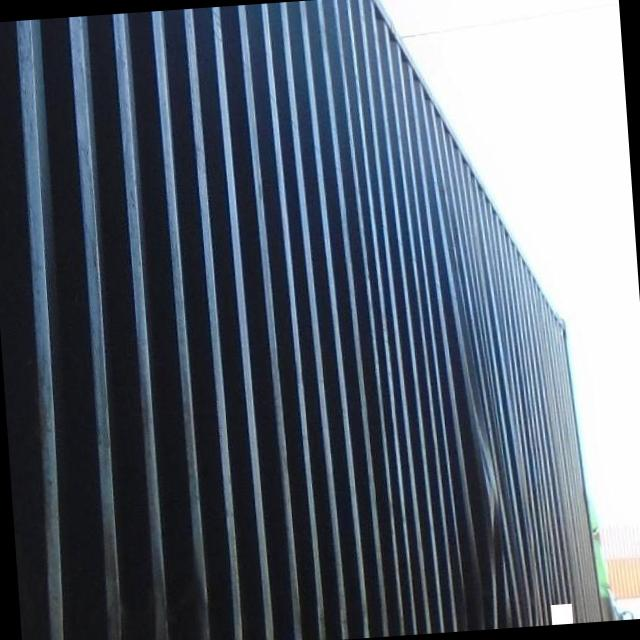Deframe_or_Dent: (454, 361, 509, 630)
